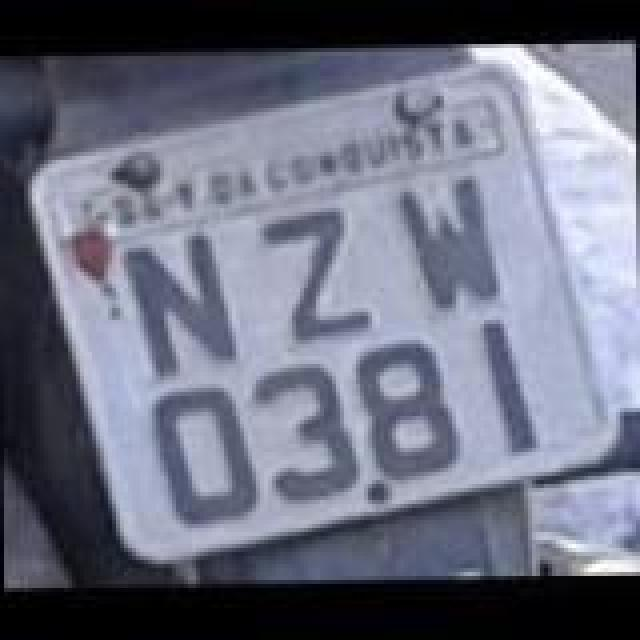1: (478, 314, 550, 458)
3: (246, 354, 366, 506)
8: (354, 338, 466, 486)
N: (128, 228, 240, 388)
O: (152, 384, 268, 528)
W: (398, 168, 510, 320)
Z: (266, 202, 374, 354)
